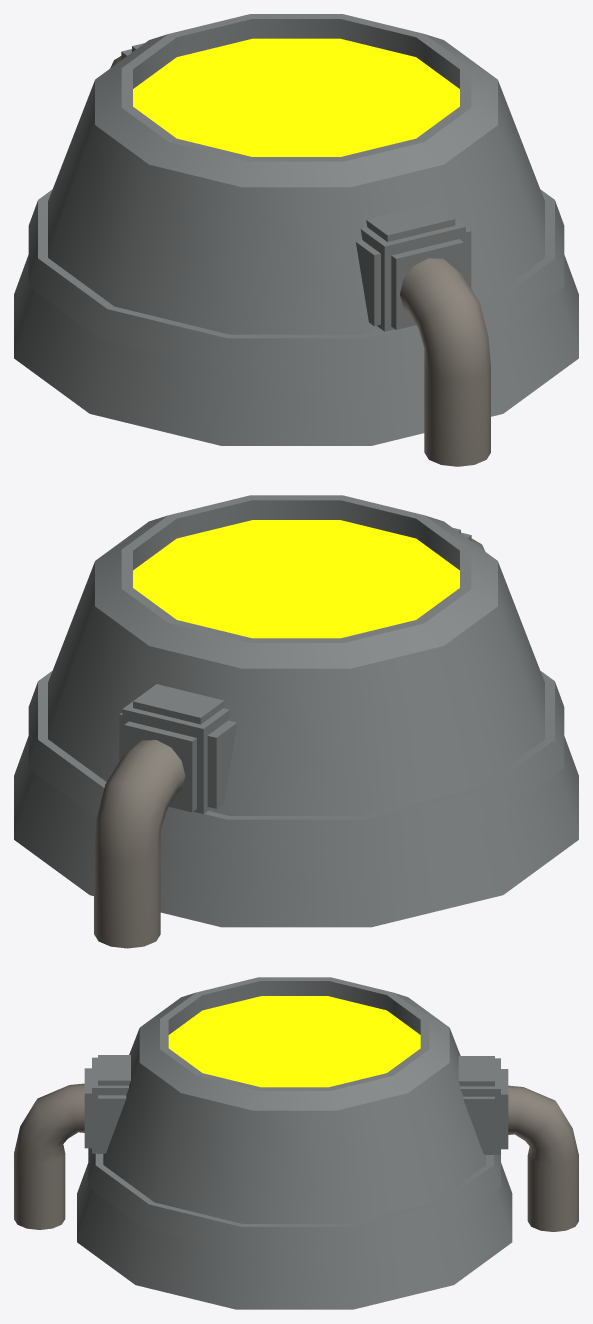
Rendered from Vat_Small.fbx.
3 renders of one model, top to bottom at view 1: azimuth 30°, elevation 25°; view 2: azimuth 150°, elevation 25°; view 3: azimuth 270°, elevation 25°, orthographic. The views are drawn at different scales.
Parts seen in each view (by area): view 1: Vat_Small, pasted__Tube, pasted__Side_io1; view 2: Vat_Small, pasted__Tube, pasted__Side_io1; view 3: Vat_Small, pasted__Tube (×2), pasted__Side_io1 (×2).
Boxes of the visible parts, x1,y1,x2,y2 form: Vat_Small: (14,14,578,445); pasted__Tube: (399,258,490,466); pasted__Side_io1: (356,203,471,331); Vat_Small: (14,495,578,927); pasted__Tube: (94,740,185,948); pasted__Side_io1: (119,684,236,813); Vat_Small: (77,977,512,1309); pasted__Tube (×2): (14,1083,578,1231); pasted__Side_io1 (×2): (84,1055,508,1154).
Bounding box in the file's own units: 198 × 93.61 × 257.
